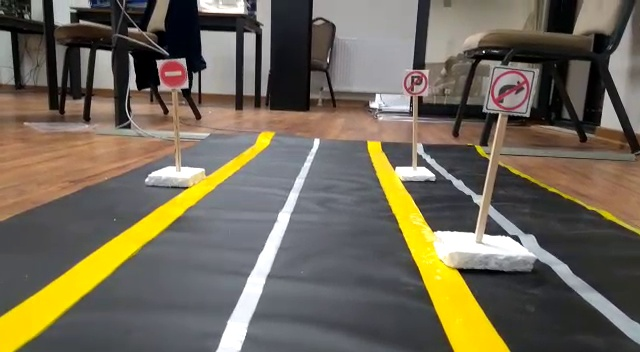girisi_olmayan_yol: (154, 57, 188, 90)
park_yapilmaz: (403, 68, 429, 97)
saga_donulmez: (487, 67, 532, 115)
